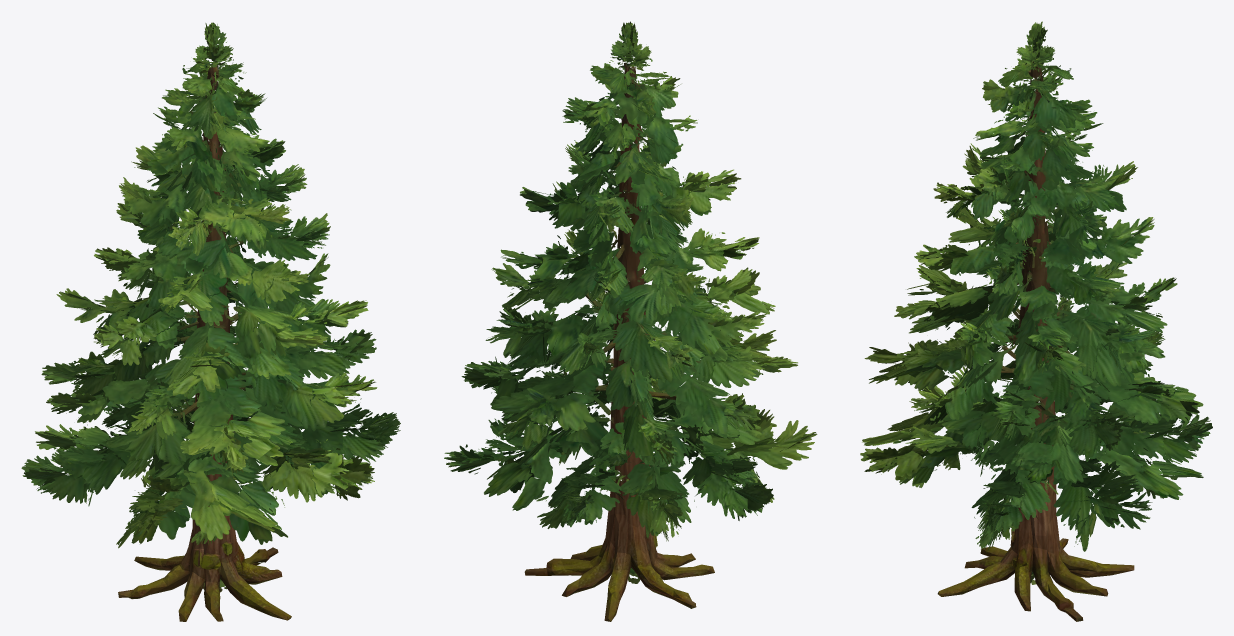
File: koru_ladin.glb
3 renders of one model, left to right at view 1: azimuth 30°, elevation 25°; view 2: azimuth 150°, elevation 25°; view 3: azimuth 270°, elevation 25°, orthographic.
Parts seen in each view (by area): view 1: koru_ladin; view 2: koru_ladin; view 3: koru_ladin.
Part boxes in pixels (<box>): koru_ladin: <box>21,22,400,621</box>; koru_ladin: <box>444,21,817,621</box>; koru_ladin: <box>860,21,1212,621</box>.
Bounding box in the file's own units: 7.59 × 12.11 × 7.17.
2 materials, 2 textured.
